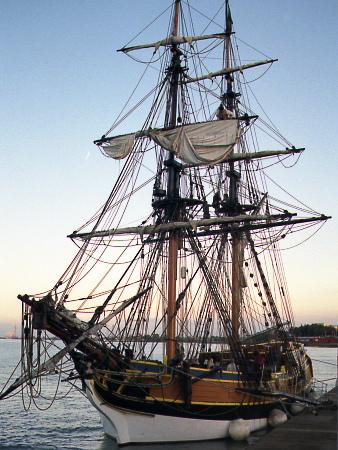Ship: (2, 1, 332, 449)
